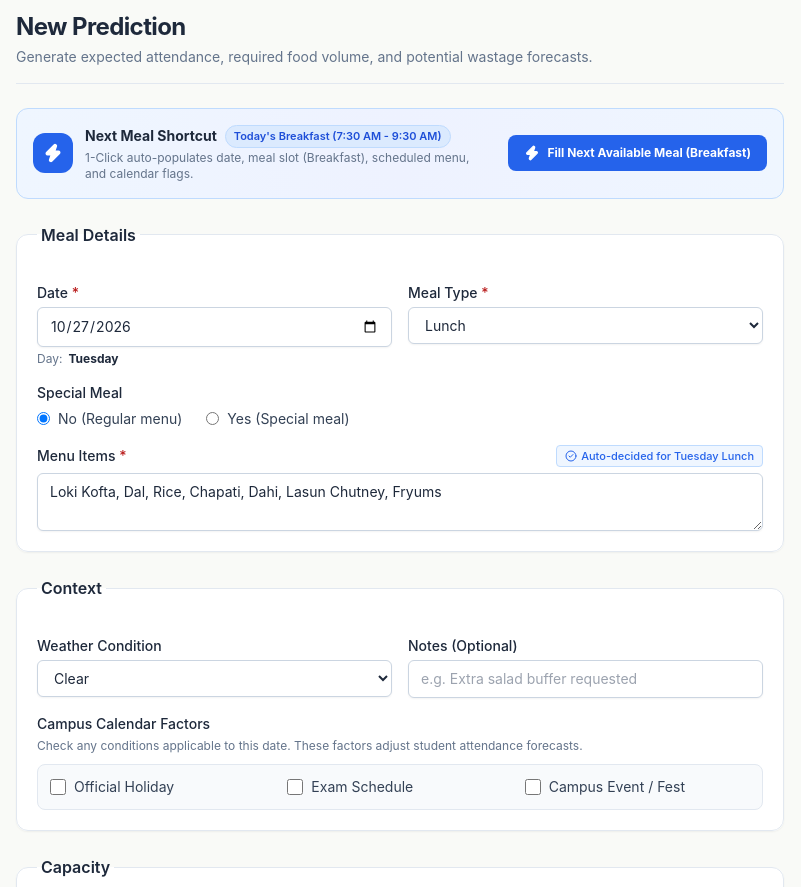
Test: NewPrediction Next Available Meal Shortcut (HCI Golden Rule 7) › populates all prediction input features when clicking Fill Next Available Meal
Click the button "Fill Next Available Meal (Breakfast)" at (637, 153), box left=508, top=135, right=767, bottom=171
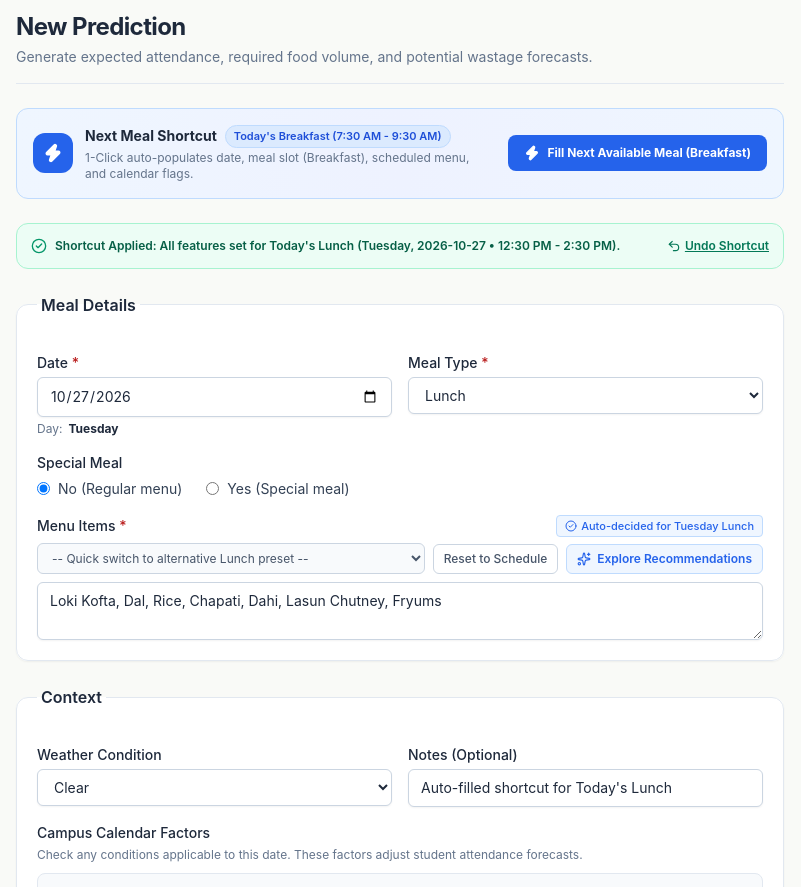
expect the date field labelled "Date *" holds "2026-10-27": met, box left=37, top=376, right=392, bottom=416
expect the text "Shortcut Applied:" is shown: met, box left=55, top=238, right=620, bottom=252
expect the button "Undo Shortcut" is shown: met, box left=667, top=238, right=769, bottom=254
